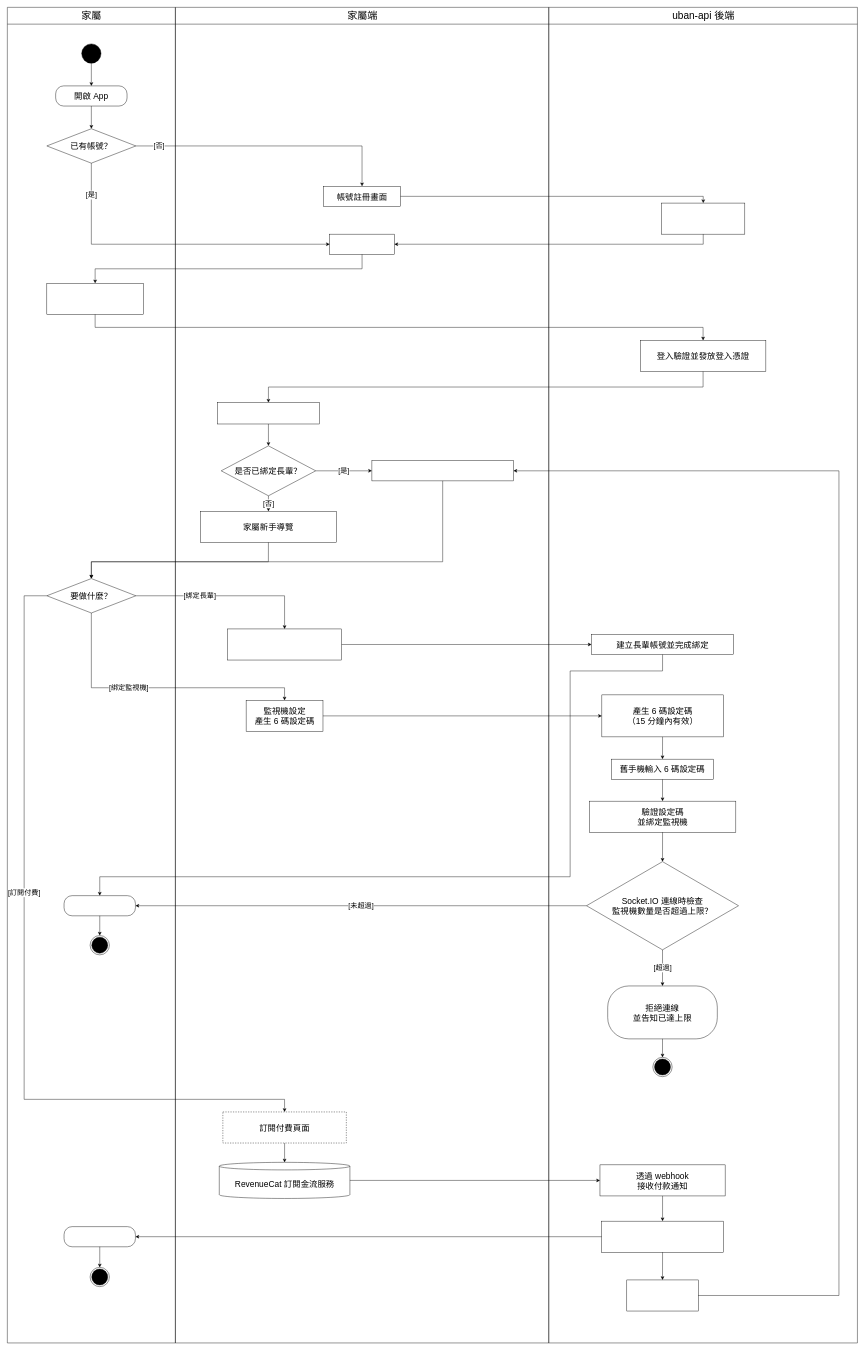
This 865x1350 diagram has some shape labels left out. Here are the shapes that lost their labels. From the top down, the centre of each, then its label:
At point (703, 218): "註冊帳號 （密碼雜湊加密）".
At point (361, 244): "登入畫面".
At point (94, 298): "輸入 Email 與密碼 或用 Google、LINE 登入".
At point (268, 413): "記錄登入身分為家屬".
At point (442, 470): "家屬端主畫面".
At point (284, 644): "輸入長輩 4 碼 或掃描 QR Code".
At point (99, 905): "完成綁定".
At point (99, 1236): "訂閱生效".
At point (662, 1236): "更新訂閱狀態 （以此為準）".
At point (662, 1295): "查詢訂閱功能權限".
